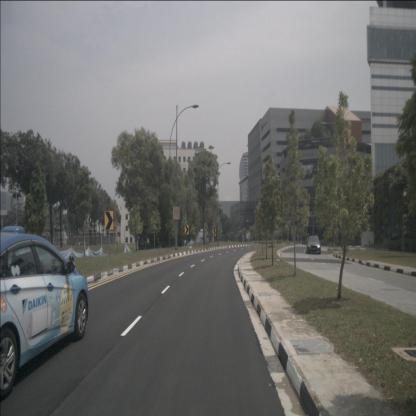vehicle-car: (0, 232, 89, 400), (306, 236, 321, 254)
